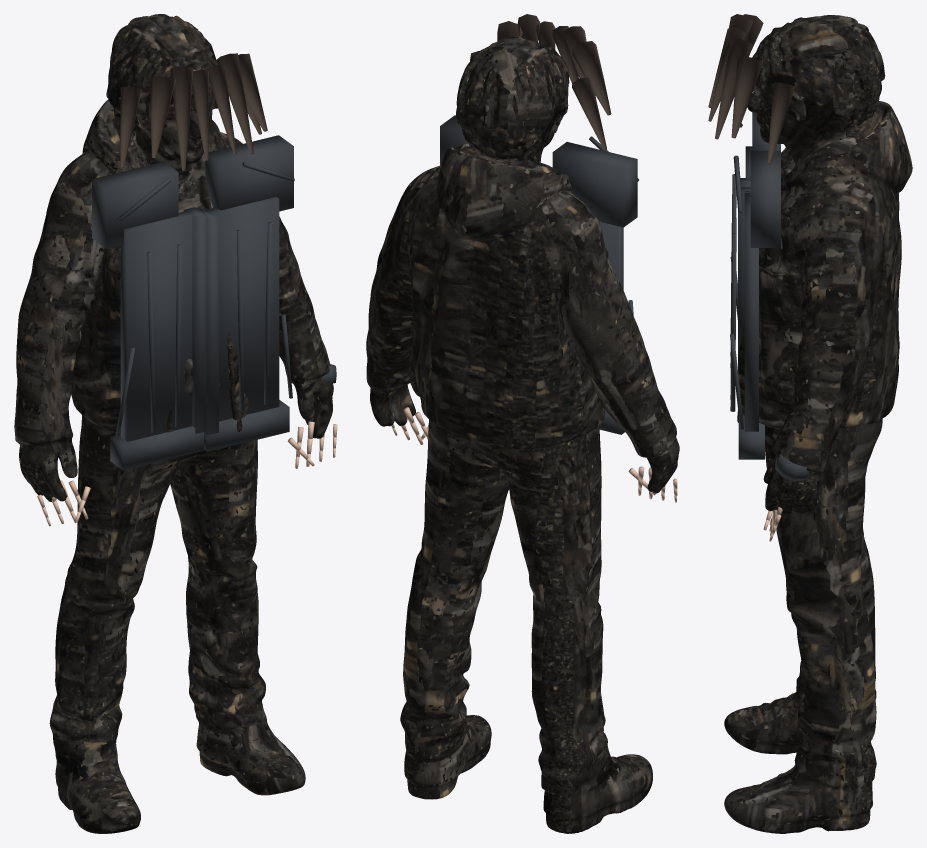
Rendered from SK_Player_FirstPersonBody_Refined.fbx.
3 renders of one model, left to right at view 1: azimuth 30°, elevation 25°; view 2: azimuth 150°, elevation 25°; view 3: azimuth 270°, elevation 25°, orthographic.
Parts seen in each view (by area): view 1: PlayerRoughDraft_Mesh, Player_Refined_Jacket3D_Details, Player_Refined_LayeredHairClumps, Player_Refined_IndependentFingers; view 2: PlayerRoughDraft_Mesh, Player_Refined_Jacket3D_Details, Player_Refined_LayeredHairClumps, Player_Refined_IndependentFingers; view 3: PlayerRoughDraft_Mesh, Player_Refined_Jacket3D_Details, Player_Refined_LayeredHairClumps.
Part boxes in pixels (left/top/right/bottom): PlayerRoughDraft_Mesh: left=14, top=14, right=333, bottom=833; Player_Refined_Jacket3D_Details: left=92, top=135, right=336, bottom=470; Player_Refined_LayeredHairClumps: left=120, top=53, right=267, bottom=170; Player_Refined_IndependentFingers: left=37, top=421, right=337, bottom=526; PlayerRoughDraft_Mesh: left=366, top=36, right=679, bottom=833; Player_Refined_Jacket3D_Details: left=440, top=115, right=639, bottom=434; Player_Refined_LayeredHairClumps: left=470, top=14, right=611, bottom=150; Player_Refined_IndependentFingers: left=391, top=407, right=677, bottom=502; PlayerRoughDraft_Mesh: left=724, top=15, right=912, bottom=833; Player_Refined_Jacket3D_Details: left=730, top=112, right=809, bottom=480; Player_Refined_LayeredHairClumps: left=708, top=14, right=794, bottom=163.
Bounding box in the file's own units: 42.2 × 100 × 24.07.
